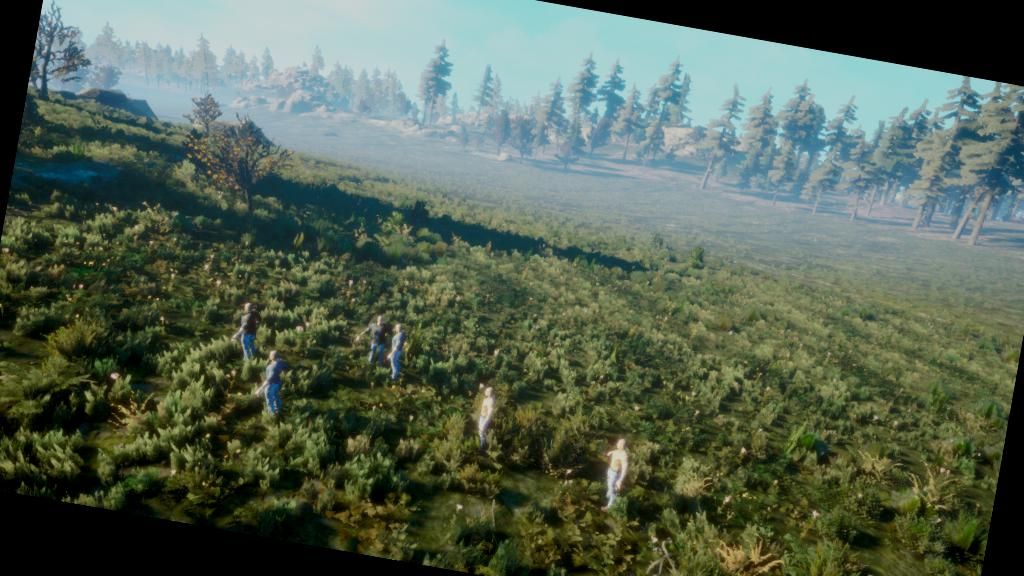human: (575, 410, 657, 534), (340, 298, 426, 392), (455, 367, 516, 461), (214, 284, 272, 371), (247, 342, 304, 428)
